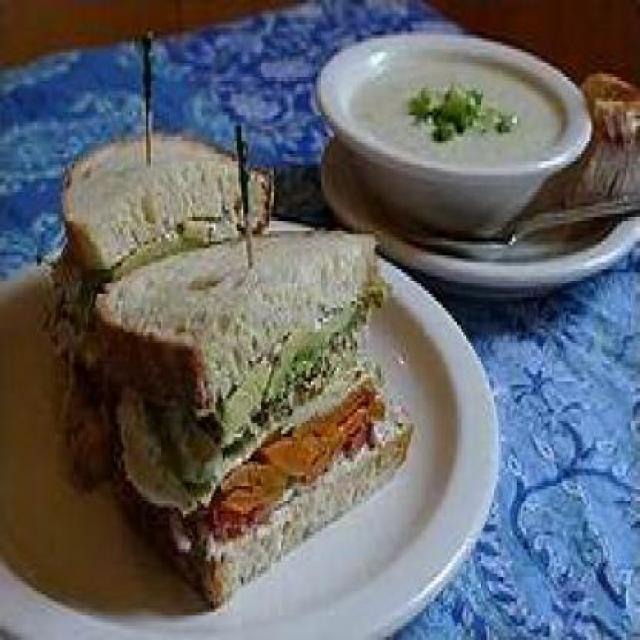clam chowder: (320, 28, 585, 252)
club sandwich: (42, 80, 403, 588), (579, 49, 638, 238)
